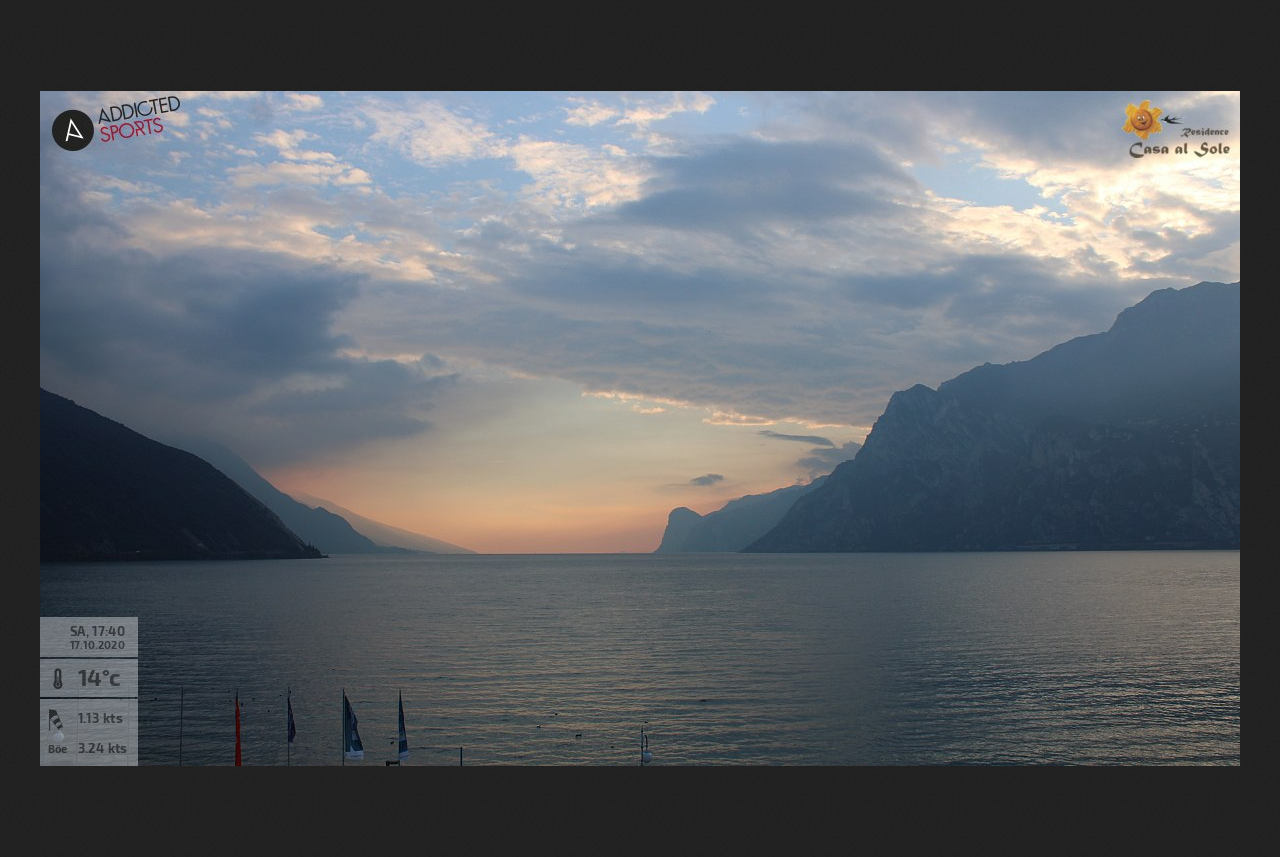no: (284, 692, 295, 743)
